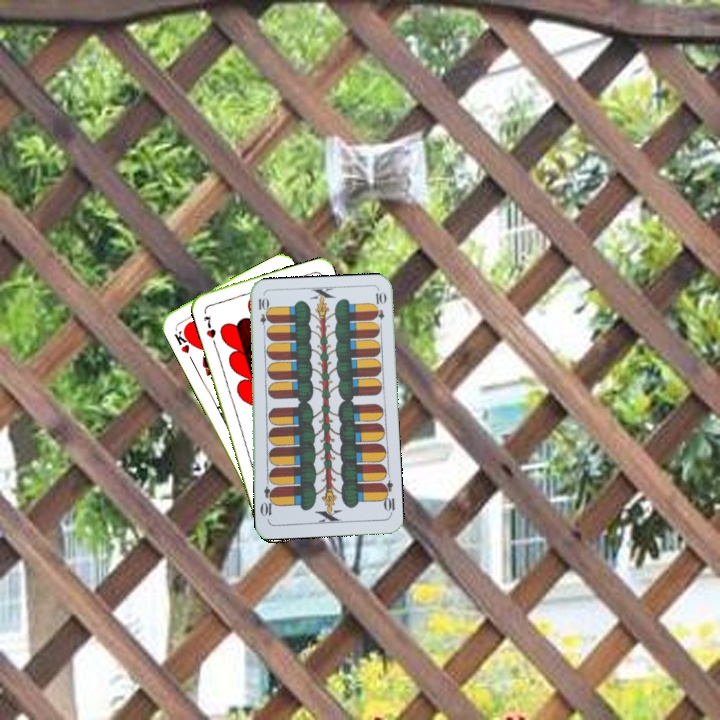E10: (377, 477, 397, 517), (254, 294, 269, 334)
H7: (200, 311, 218, 347)
HK: (170, 324, 196, 356)
